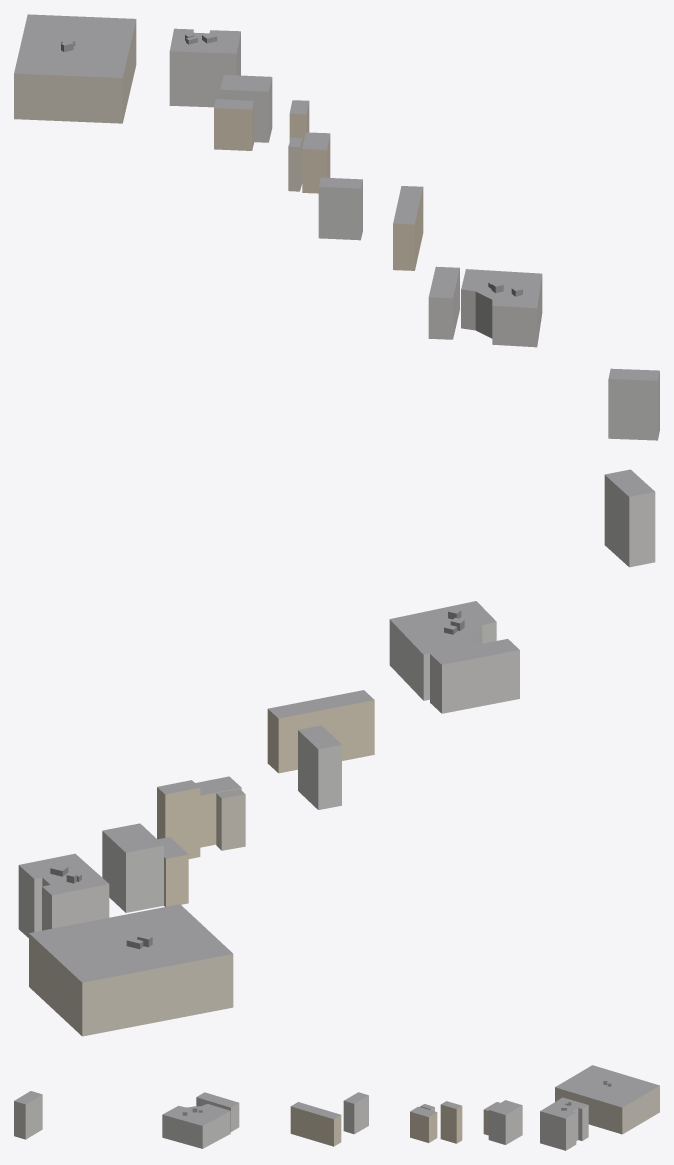
Rendered from building_-6_-6.glb.
3 views of the same model, one above another, from view 1: azimuth 30°, elevation 25°; view 2: azimuth 150°, elevation 25°; view 3: azimuth 270°, elevation 25° (orthographic). The views are drawn at different scales.
Parts seen in each view (by area): view 1: roof, concrete_light, concrete_warm, sandstone; view 2: concrete_light, roof, concrete_warm, sandstone; view 3: concrete_light, roof, sandstone, concrete_warm.
Boxes of the visible parts, bbox=[...] form: roof: bbox=[14, 14, 659, 380]; concrete_light: bbox=[169, 30, 659, 440]; concrete_warm: bbox=[14, 20, 302, 191]; sandstone: bbox=[214, 101, 423, 270]; concrete_light: bbox=[18, 475, 655, 937]; roof: bbox=[19, 469, 654, 982]; concrete_warm: bbox=[29, 793, 245, 1036]; sandstone: bbox=[157, 700, 374, 906]; concrete_light: bbox=[14, 1094, 588, 1150]; roof: bbox=[14, 1065, 659, 1125]; sandstone: bbox=[290, 1104, 488, 1146]; concrete_warm: bbox=[420, 1085, 659, 1134].
Size of the model in its own units: 55.4 by 15.59 by 257.
